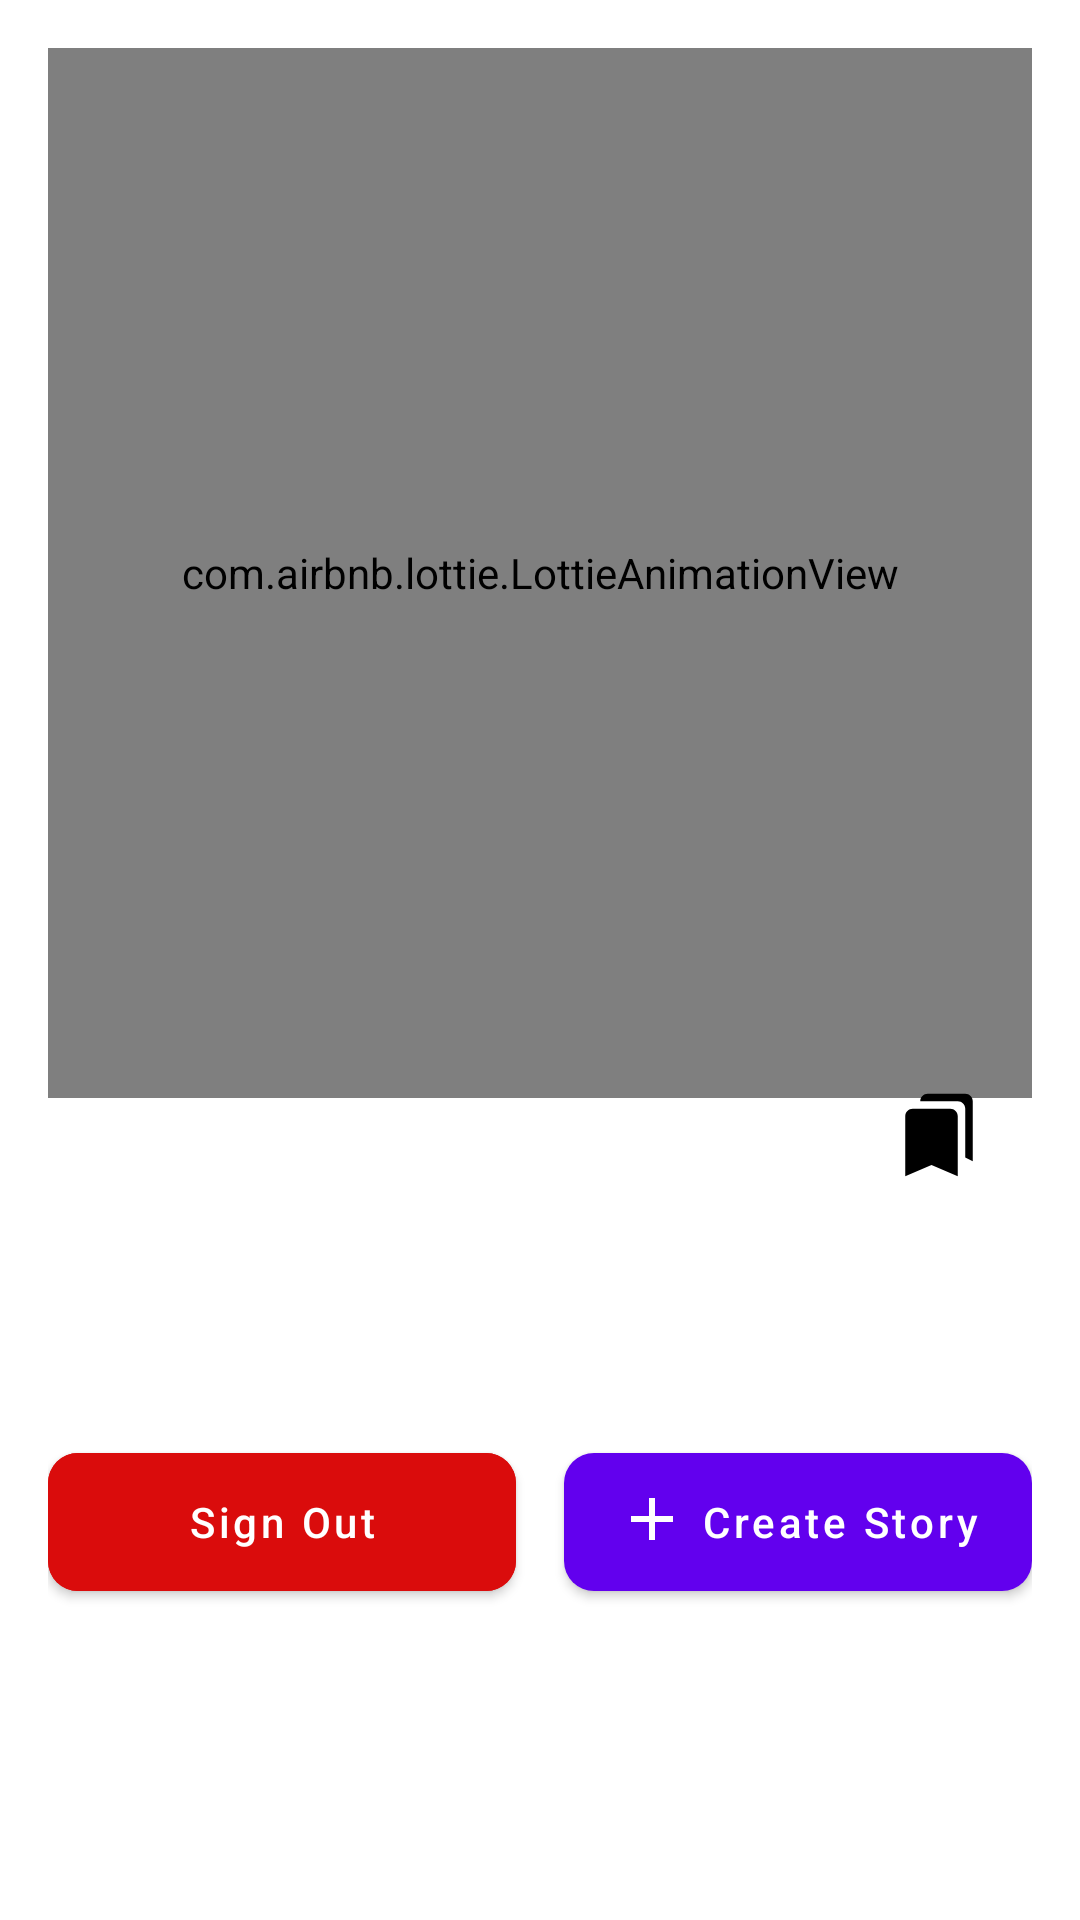

Named icons in this screenshot (1080px×1920px) and their bounding boxes, (x1, y1, x2, y2):
bookmarks: (905, 1108, 958, 1176)
